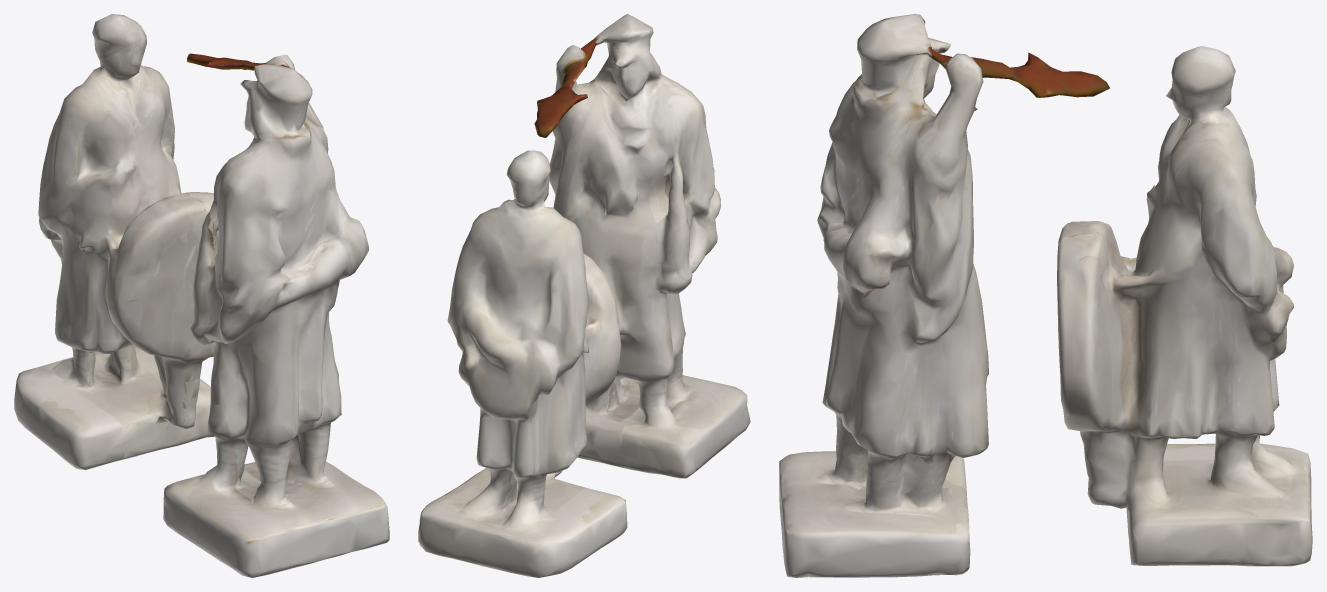
The model's file is Statue_Duo_0516155207_texture.glb.
The picture shows the model from 3 angles, left to right: view 1: azimuth 30°, elevation 25°; view 2: azimuth 150°, elevation 25°; view 3: azimuth 270°, elevation 25°; orthographic projection. The views are drawn at different scales.
Bounding box in the file's own units: 0.8172 × 2 × 1.84.
Materials: 1 (1 with a texture image).
